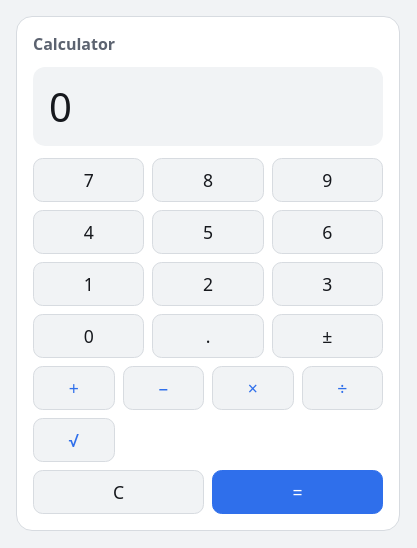
calculating › says when a result was recalled rather than computed
This screenshot has width=417, height=548.
Expected: the button named "add" is shown, [33,366,114,410]
Click the button "2". click: point(208, 284)
box: [152,262,264,306]
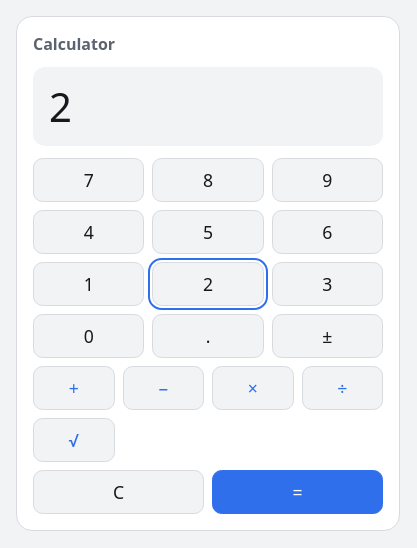
Click the button named "add". click: point(74, 388)
box: [33,366,114,410]
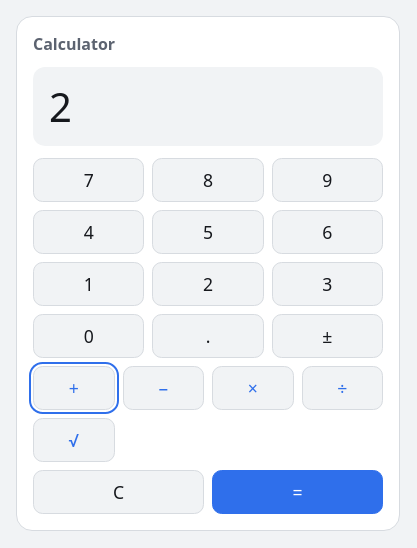
Click the button "3". click: point(327, 284)
box: [272,262,383,306]
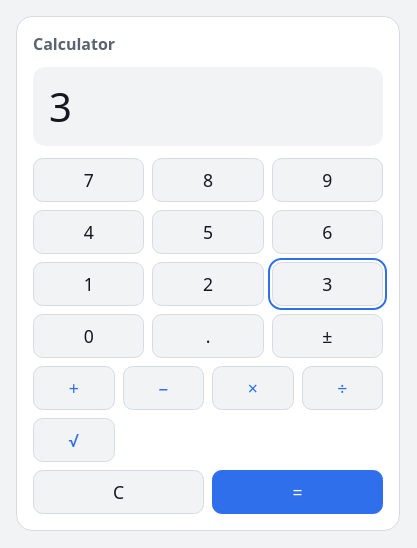
Click the button named "equals". click: point(298, 492)
box: [212,470,383,514]
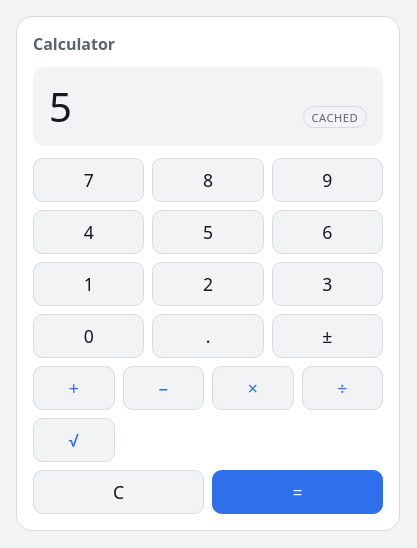
Result: the text "cached" is shown at [303,106,367,128]
